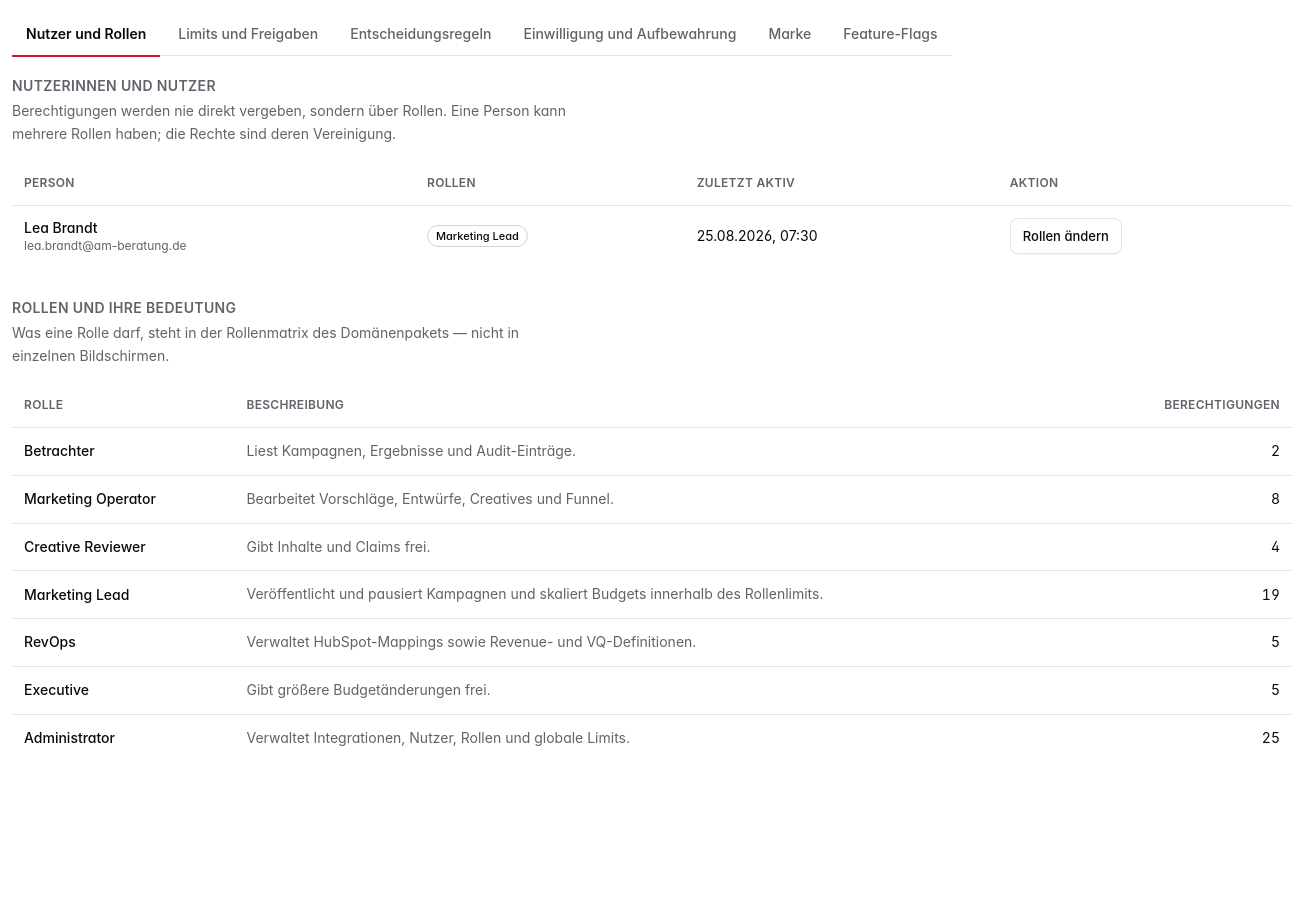
Test: SettingsView — tab strip › switches panels when another tab is chosen
Click the tab "Marke".
click(790, 34)  # box [754,12,825,56]
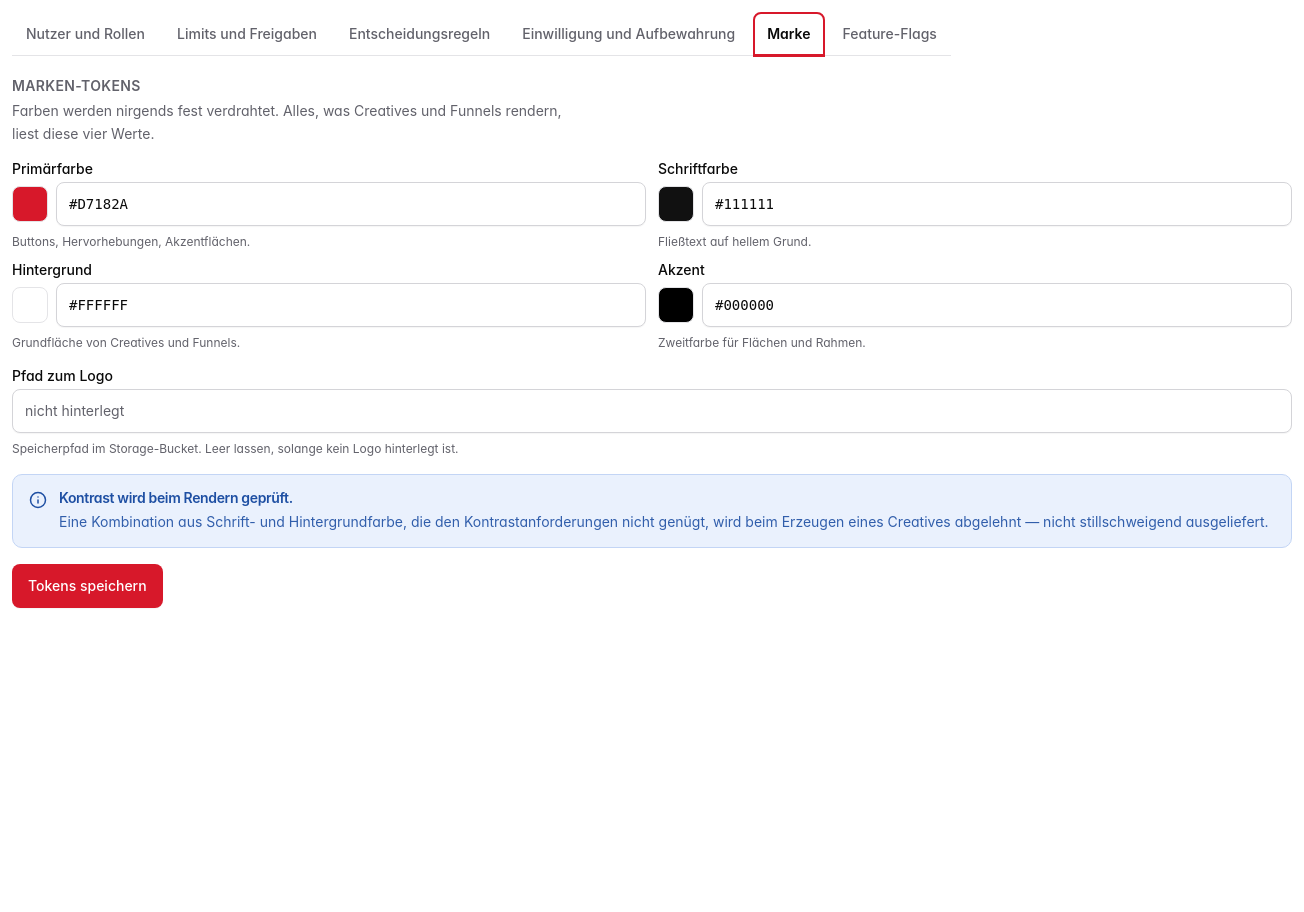
Check: the heading "Marken-Tokens" is shown, box [12,76,141,96]
